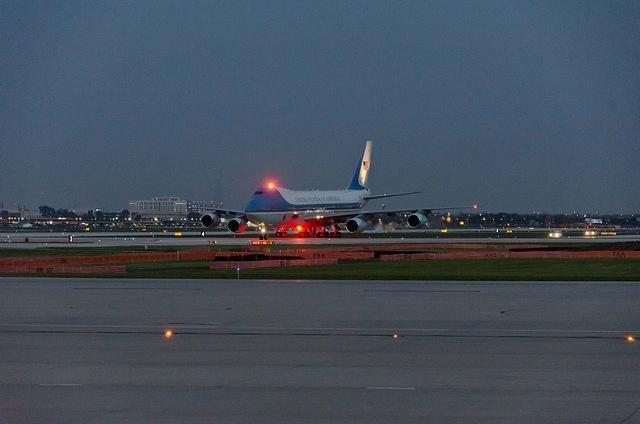car: (584, 229, 599, 238), (549, 230, 563, 238)
